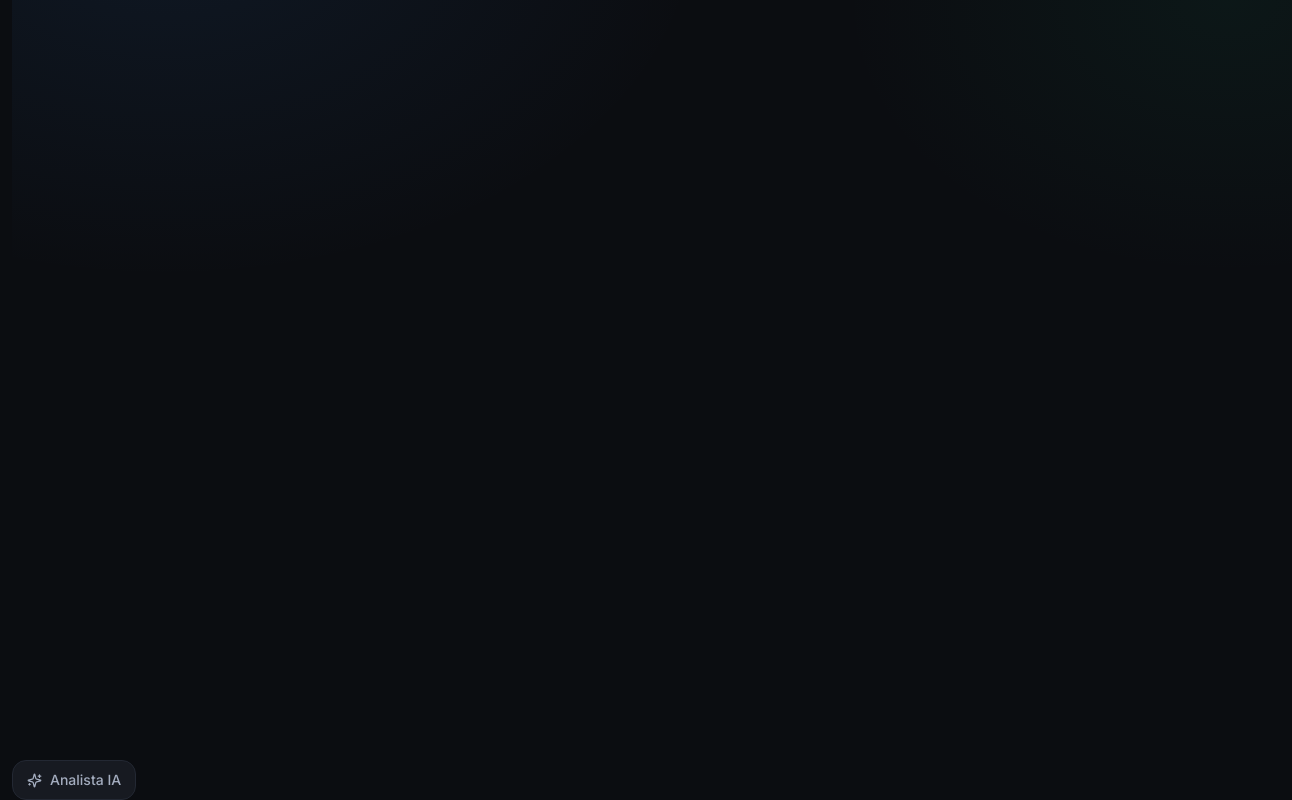
Test: AssetChat history › opens another scope's conversation where it belongs
(page scrolled)
Step 1. Click the button "Analista IA" → (74, 780), box [12,760,136,799]
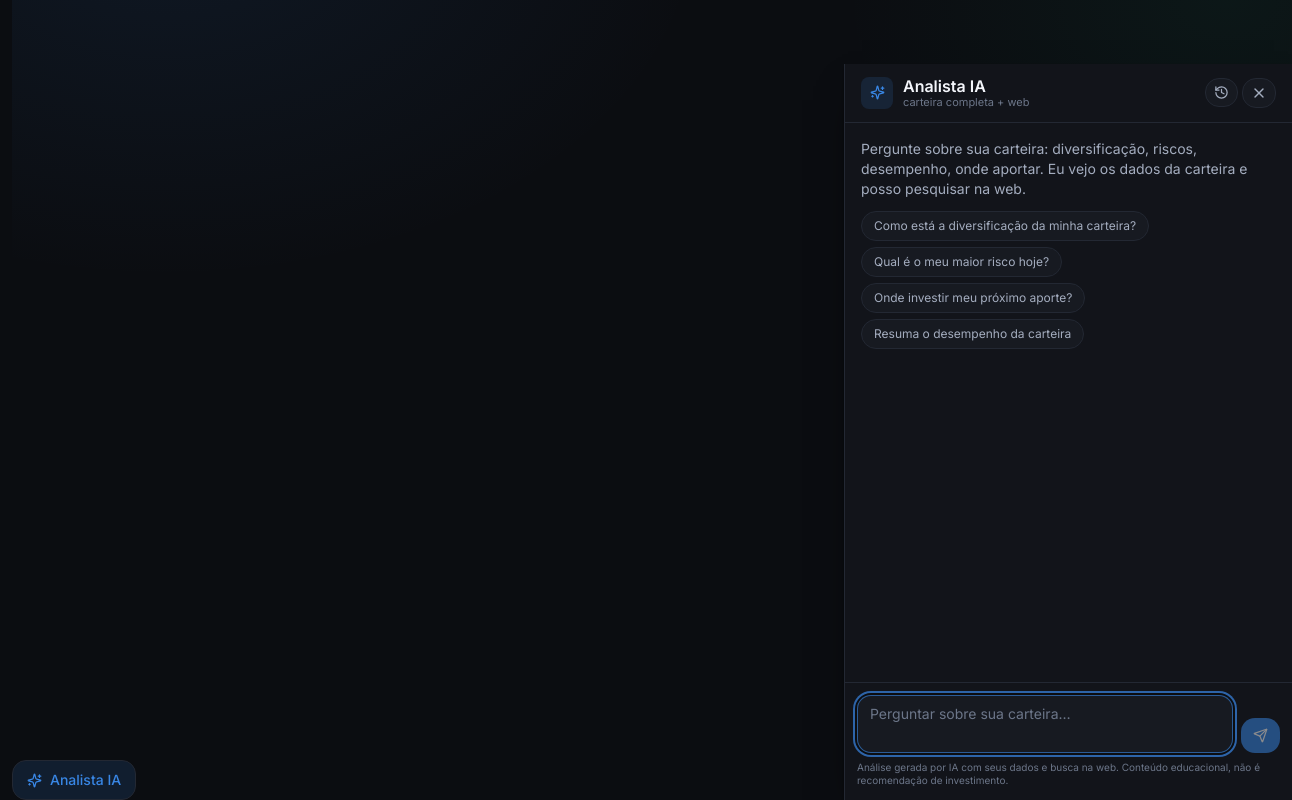
Step 2. Click the button named "Conversas anteriores" → (1222, 93), box [1205,78,1238,107]
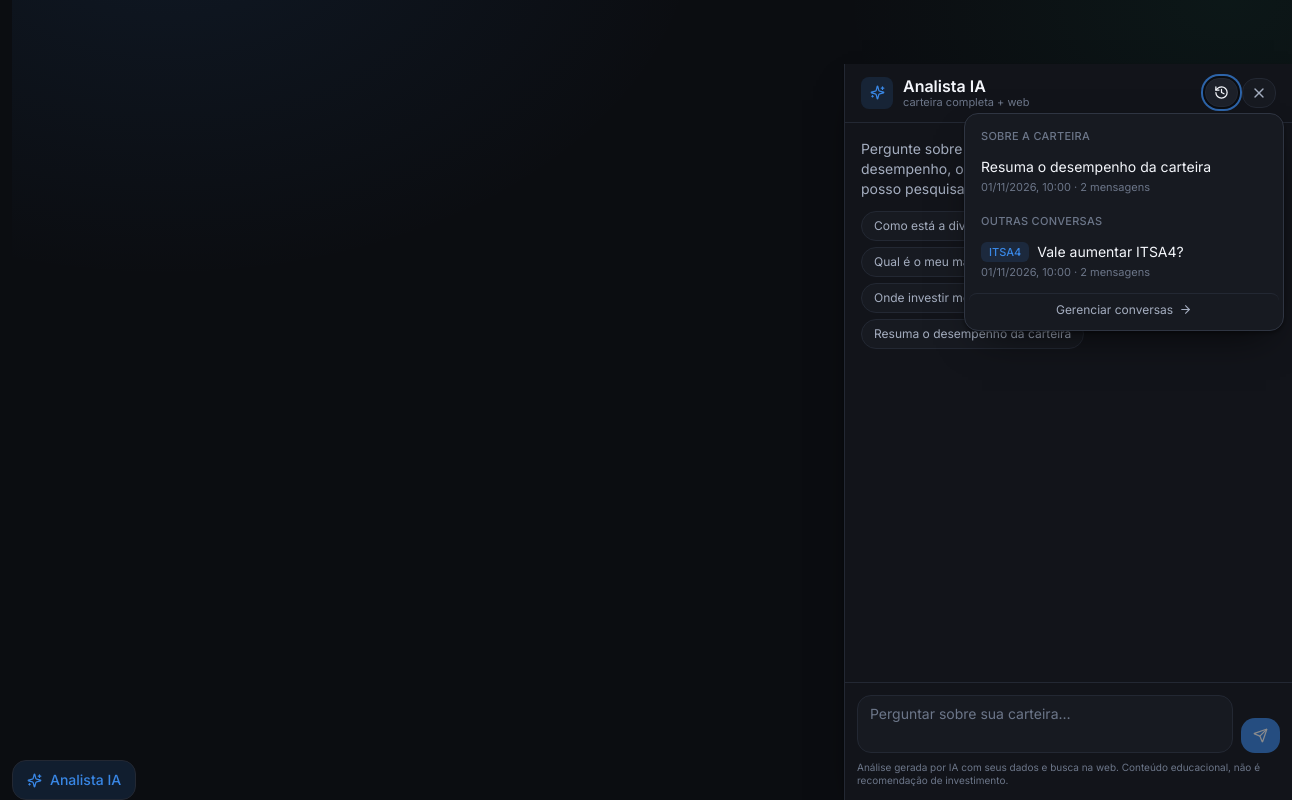
Step 3. Click the text "Vale aumentar ITSA4?" → (1110, 252), box [1037,242,1184,262]
(page scrolled)
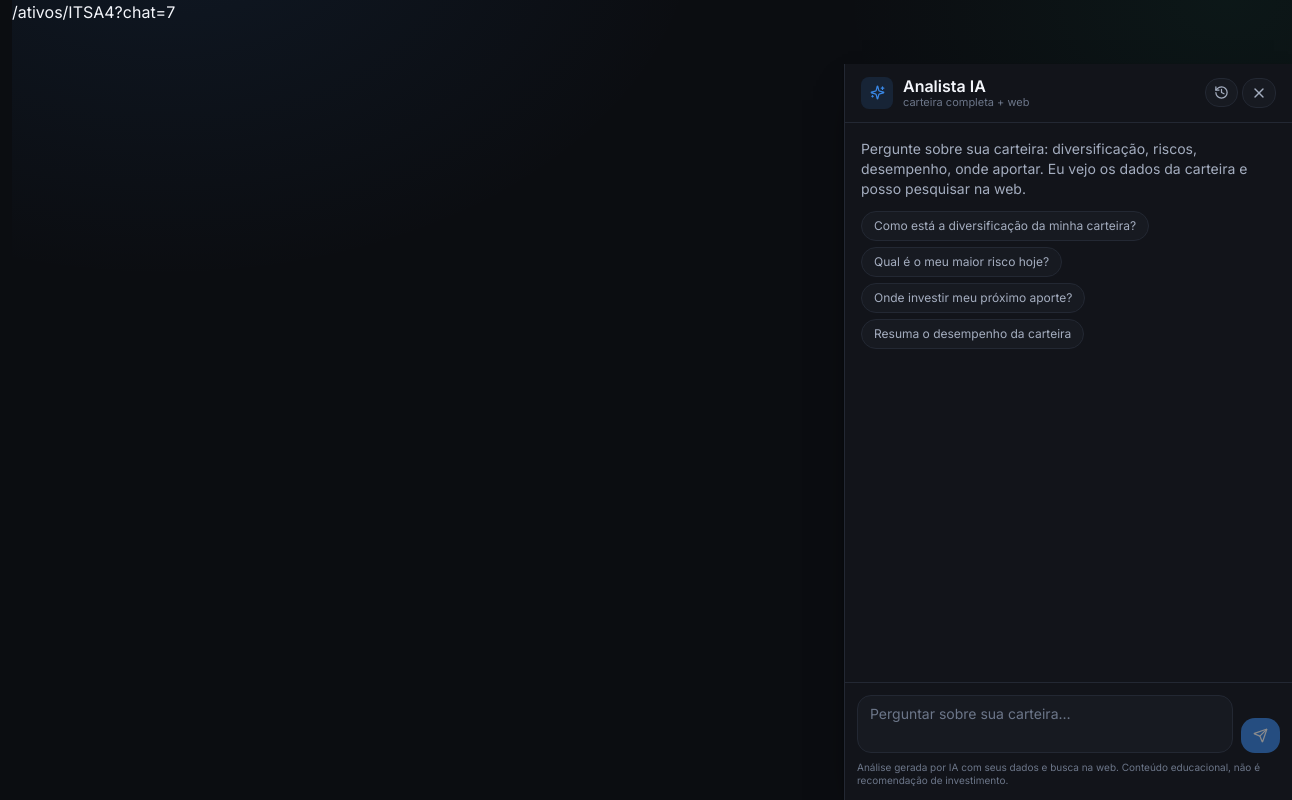
Result: the text with test id "location" reads "/ativos/ITSA4?chat=7" at [12,2,175,22]
